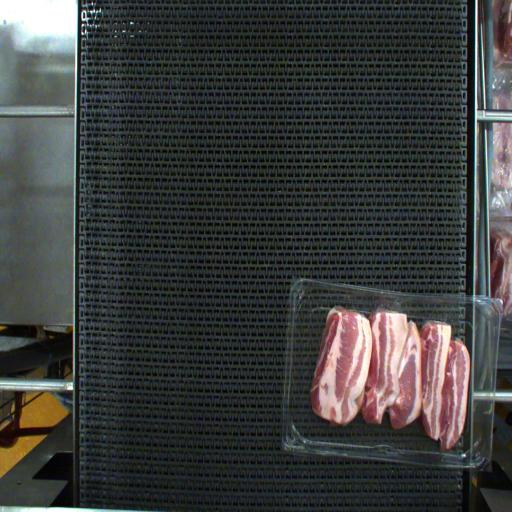unsealed: (368, 283, 440, 328)
